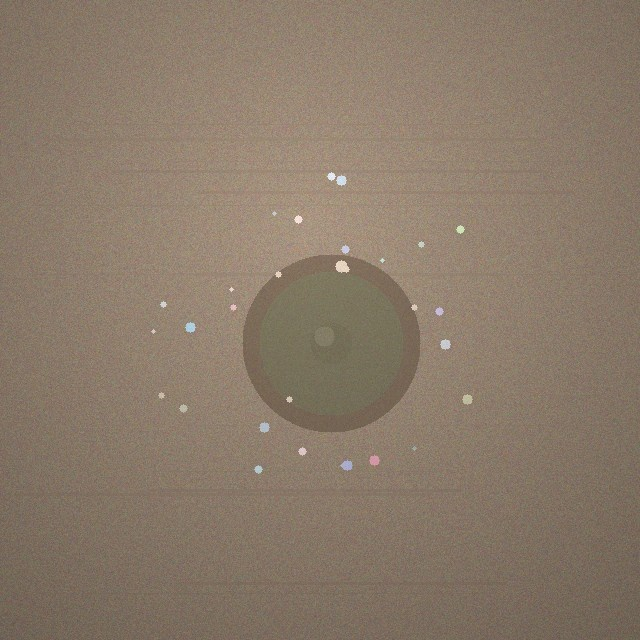overburn: (242, 254, 420, 432)
